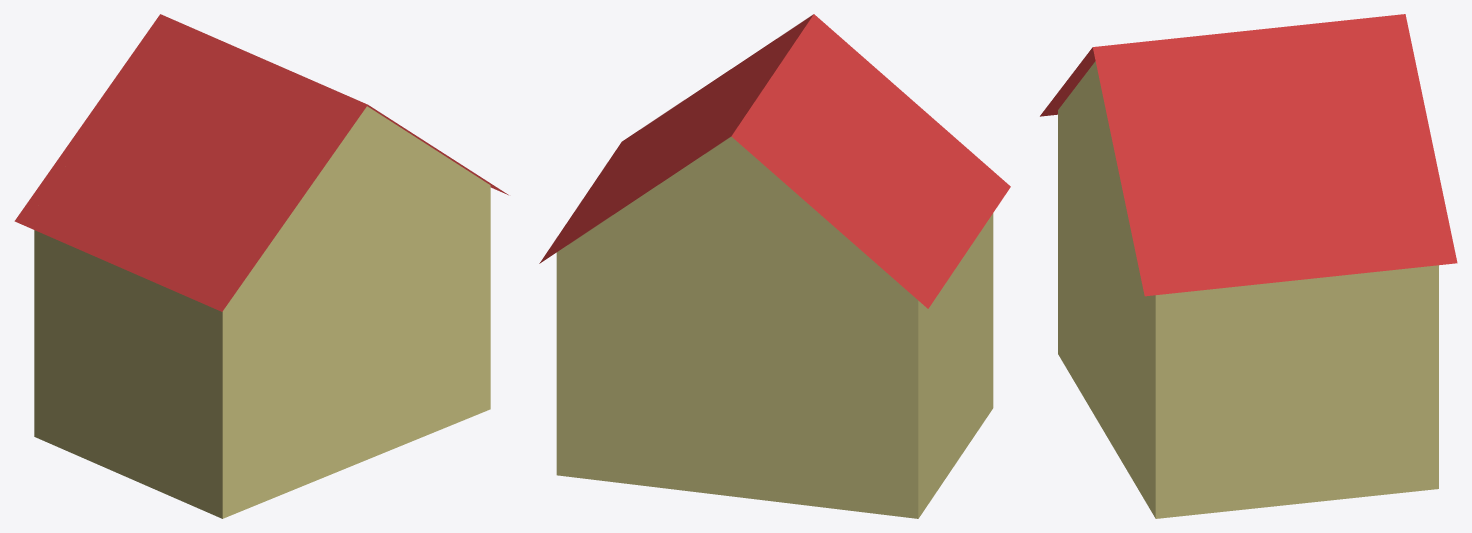
The picture shows the model from 3 angles, left to right: view 1: azimuth 30°, elevation 25°; view 2: azimuth 150°, elevation 25°; view 3: azimuth 270°, elevation 25°; orthographic projection. The views are drawn at different scales.
Bounding box in the file's own units: 16.4 × 13.75 × 14.22.
